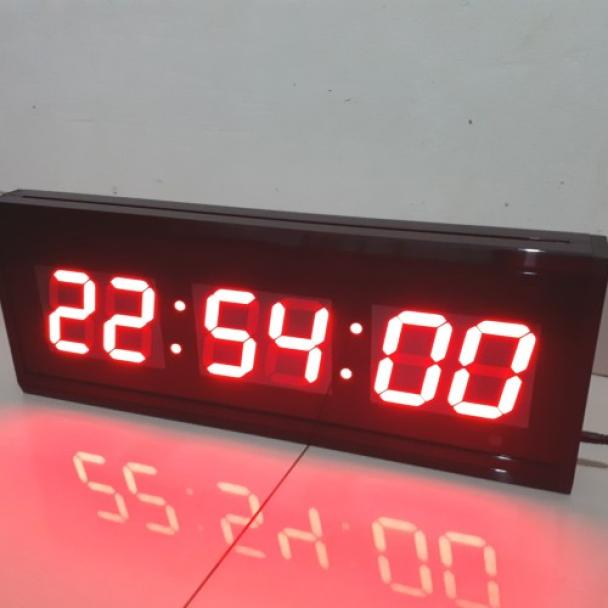Jam: (0, 190, 599, 500)
